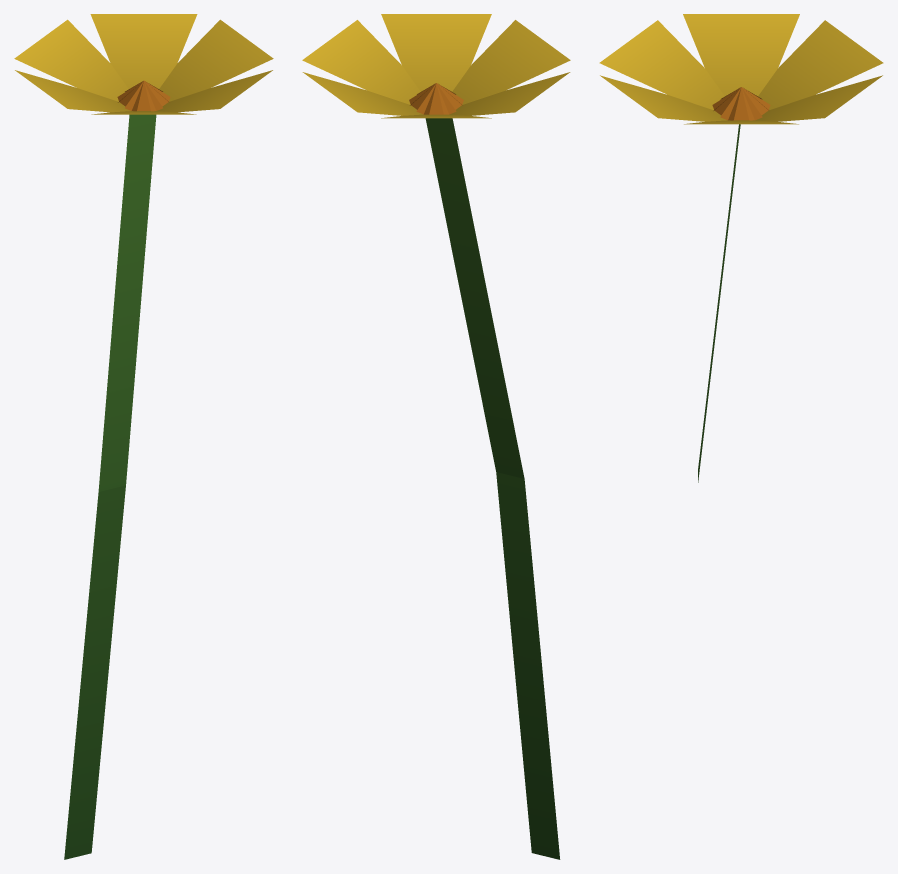
File: flower_yellow.glb
The picture shows the model from 3 angles, left to right: view 1: azimuth 30°, elevation 25°; view 2: azimuth 150°, elevation 25°; view 3: azimuth 270°, elevation 25°; orthographic projection. The views are drawn at different scales.
Visible parts, largest first — view 1: flower_yellow; view 2: flower_yellow; view 3: flower_yellow.
Boxes of the visible parts, x1,y1,x2,y2 form: flower_yellow: (14,14,273,859); flower_yellow: (302,14,570,859); flower_yellow: (599,14,883,482).
Bounding box in the file's own units: 0.12 × 0.421 × 0.1309.
